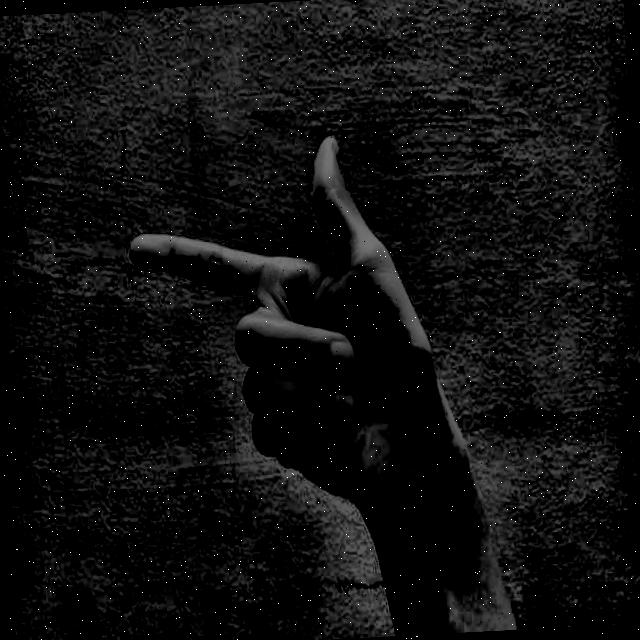Tho: (94, 70, 519, 552)
